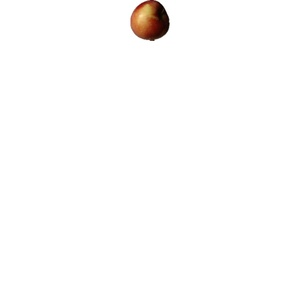maçã braeburn: (128, 2, 171, 42)
